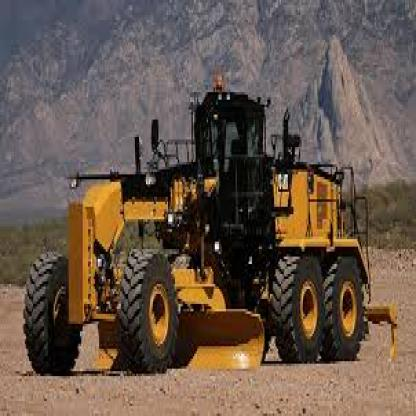bull_dozer/loader/grader: (24, 82, 414, 401)
